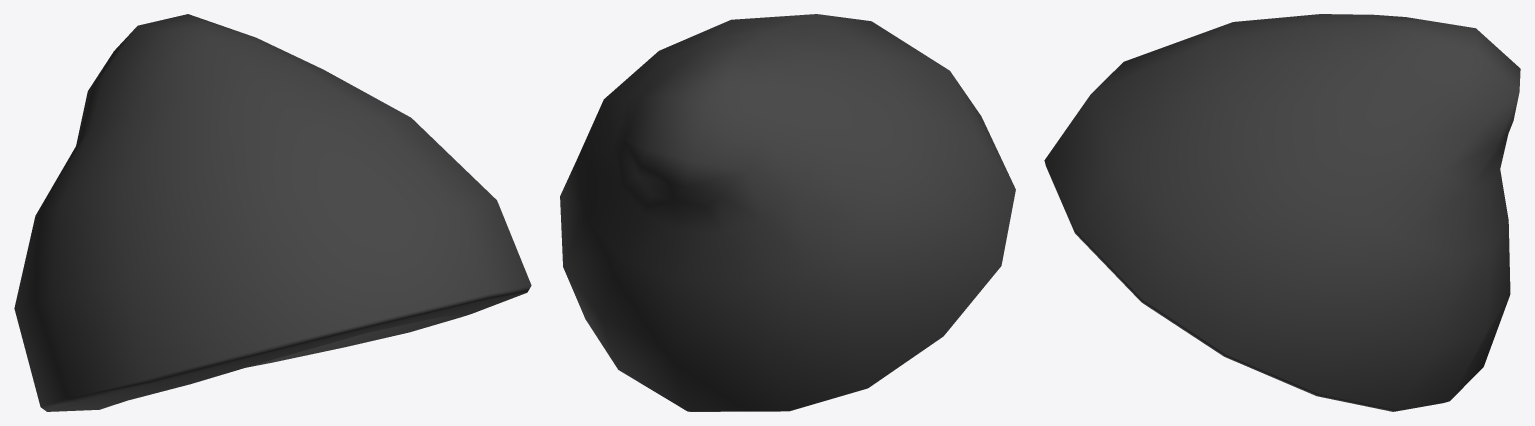
The model's file is Hat_026.glb.
3 renders of one model, left to right at view 1: azimuth 30°, elevation 25°; view 2: azimuth 150°, elevation 25°; view 3: azimuth 270°, elevation 25°, orthographic. The views are drawn at different scales.
Visible parts, largest first — view 1: Hat_026; view 2: Hat_026; view 3: Hat_026.
Part boxes in pixels (box(x1,y1,x2,y2)): Hat_026: box(14, 14, 531, 411); Hat_026: box(560, 14, 1015, 411); Hat_026: box(1044, 14, 1520, 411).
Bounding box in the file's own units: 0.4878 × 0.3879 × 0.4823.
1 material, 1 textured.
